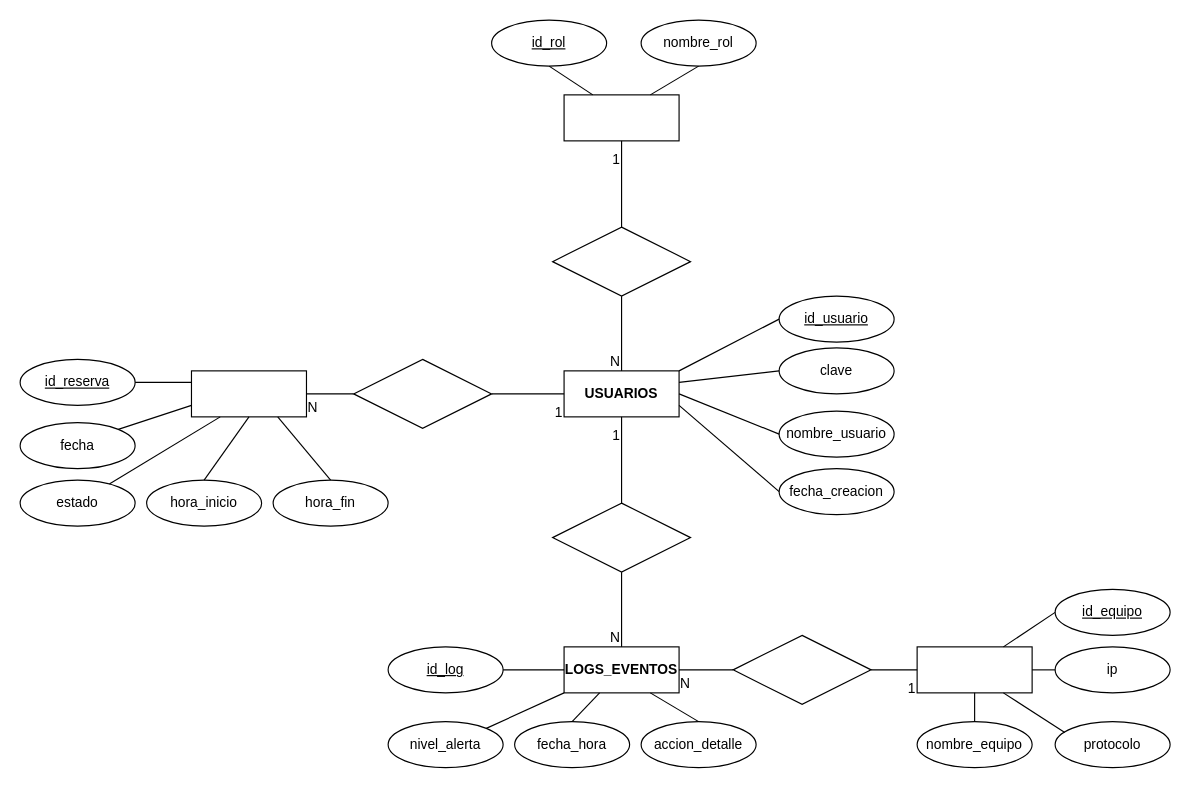
This 1190x788 diagram has some shape labels left out. The shapes that lost their labels are listed below. From the top down, each one's centre as x and y in pixels, then its label:
At pixel 621 117: "ROLES".
At pixel 621 261: "TIENE".
At pixel 248 393: "RESERVAS".
At pixel 422 393: "REALIZA".
At pixel 621 537: "GENERA".
At pixel 801 669: "REGISTRA".
At pixel 974 669: "EQUIPOS".
